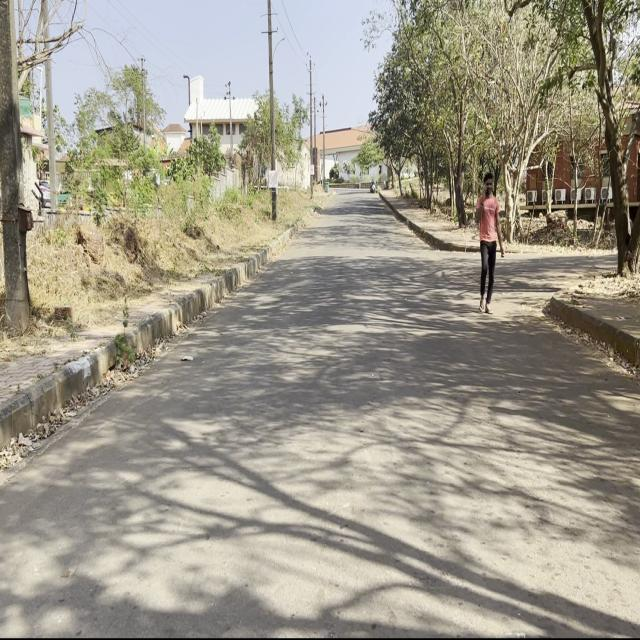Road: (3, 191, 639, 633)
